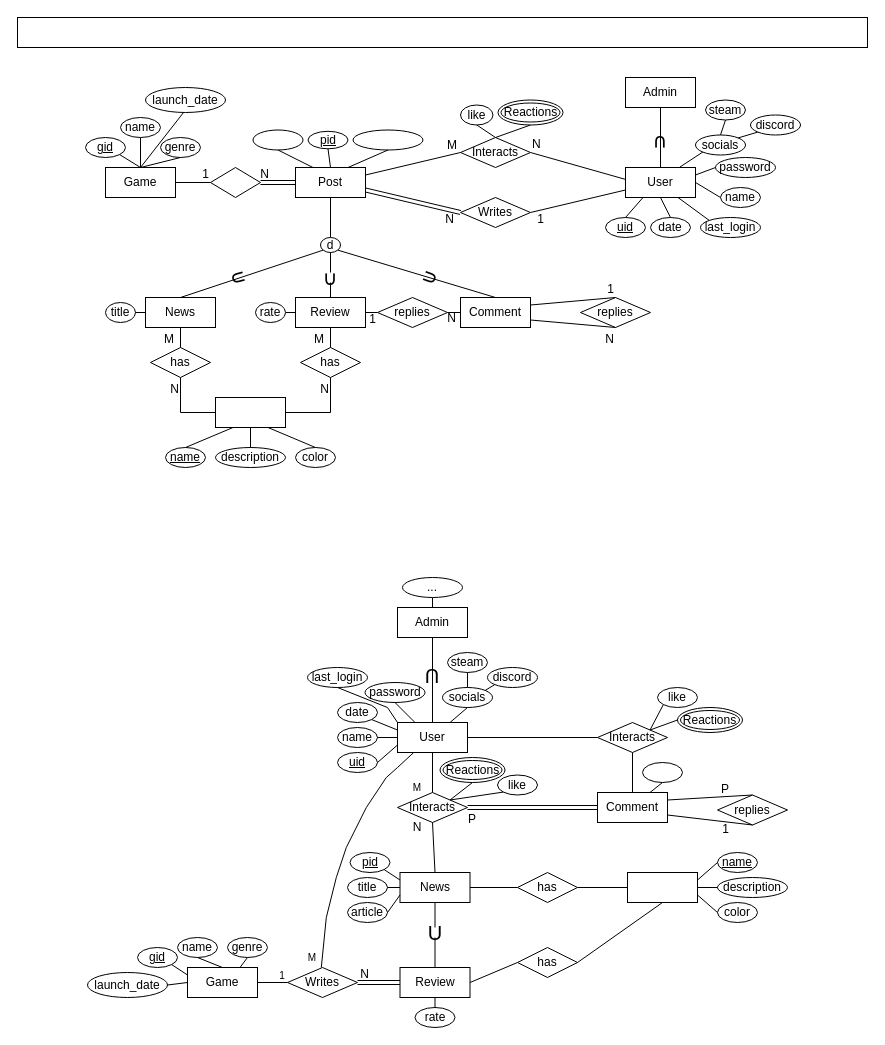
Image size: 885x1045. Some labels were removed from this diagram. The shapes that lost their labels are listed below. From the top down, each one's centre as x and y in pixels, then its label:
At (x=442, y=32): "Diagrama ER".
At (x=277, y=139): "content".
At (x=387, y=139): "timestamp".
At (x=235, y=182): "about".
At (x=250, y=412): "Tag".
At (x=662, y=772): "text".
At (x=662, y=887): "Tags".
